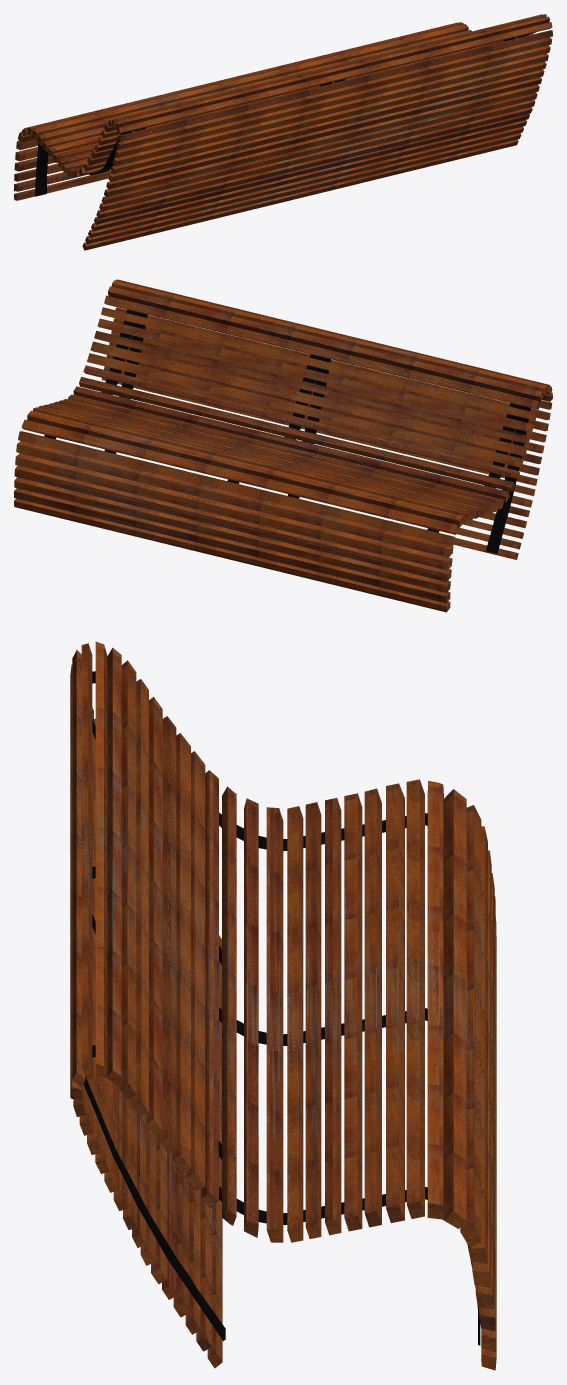
The picture shows the model from 3 angles, top to bottom: view 1: azimuth 30°, elevation 25°; view 2: azimuth 150°, elevation 25°; view 3: azimuth 270°, elevation 25°; orthographic projection. The views are drawn at different scales.
Parts seen in each view (by area): view 1: mesh40_mesh40-geometry, mesh45_mesh45-geometry, mesh35_mesh35-geometry, mesh30_mesh30-geometry, mesh33_mesh33-geometry, mesh46_mesh46-geometry, mesh31_mesh31-geometry, mesh32_mesh32-geometry, mesh7_mesh7-geometry, mesh38_mesh38-geometry, mesh39_mesh39-geometry, mesh12_mesh12-geometry (+19 smaller); view 2: mesh13_mesh13-geometry, mesh37_mesh37-geometry, mesh11_mesh11-geometry, mesh43_mesh43-geometry, mesh44_mesh44-geometry, mesh15_mesh15-geometry, mesh10_mesh10-geometry, mesh24_mesh24-geometry, mesh48_mesh48-geometry, mesh26_mesh26-geometry, mesh22_mesh22-geometry, mesh28_mesh28-geometry (+25 smaller); view 3: mesh37_mesh37-geometry, mesh11_mesh11-geometry, mesh13_mesh13-geometry, mesh49_mesh49-geometry, mesh33_mesh33-geometry, mesh34_mesh34-geometry, mesh36_mesh36-geometry, mesh20_mesh20-geometry, mesh16_mesh16-geometry, mesh14_mesh14-geometry, mesh18_mesh18-geometry, mesh9_mesh9-geometry (+29 smaller).
Part boxes in pixels (box(x1,y1,x2,y2)): mesh40_mesh40-geometry: box(112, 53, 548, 166); mesh45_mesh45-geometry: box(116, 37, 551, 149); mesh35_mesh35-geometry: box(114, 45, 550, 157); mesh30_mesh30-geometry: box(104, 84, 539, 196); mesh33_mesh33-geometry: box(32, 24, 468, 139); mesh46_mesh46-geometry: box(110, 61, 546, 173); mesh31_mesh31-geometry: box(108, 69, 544, 181); mesh32_mesh32-geometry: box(106, 77, 541, 189); mesh7_mesh7-geometry: box(101, 92, 537, 204); mesh38_mesh38-geometry: box(117, 30, 552, 141); mesh39_mesh39-geometry: box(99, 99, 535, 211); mesh12_mesh12-geometry: box(117, 22, 552, 133); mesh13_mesh13-geometry: box(16, 431, 455, 557); mesh37_mesh37-geometry: box(21, 410, 463, 534); mesh11_mesh11-geometry: box(108, 280, 546, 401); mesh43_mesh43-geometry: box(15, 453, 452, 570); mesh44_mesh44-geometry: box(14, 466, 451, 581); mesh15_mesh15-geometry: box(14, 477, 450, 592); mesh10_mesh10-geometry: box(14, 488, 450, 603); mesh24_mesh24-geometry: box(79, 377, 514, 491); mesh48_mesh48-geometry: box(90, 341, 527, 456); mesh26_mesh26-geometry: box(87, 353, 523, 467); mesh22_mesh22-geometry: box(73, 386, 509, 502); mesh28_mesh28-geometry: box(14, 498, 450, 612); mesh37_mesh37-geometry: box(427, 781, 466, 1228); mesh11_mesh11-geometry: box(95, 641, 121, 1086); mesh13_mesh13-geometry: box(460, 805, 487, 1263); mesh49_mesh49-geometry: box(386, 783, 404, 1222); mesh33_mesh33-geometry: box(406, 779, 424, 1218); mesh34_mesh34-geometry: box(344, 793, 362, 1231); mesh36_mesh36-geometry: box(364, 788, 381, 1227); mesh20_mesh20-geometry: box(266, 807, 283, 1242); mesh16_mesh16-geometry: box(325, 798, 341, 1235); mesh14_mesh14-geometry: box(305, 802, 321, 1238); mesh18_mesh18-geometry: box(287, 806, 303, 1242); mesh9_mesh9-geometry: box(119, 660, 136, 1099).
Bounding box in the file's own units: 0.878 × 0.298 × 0.3747.
